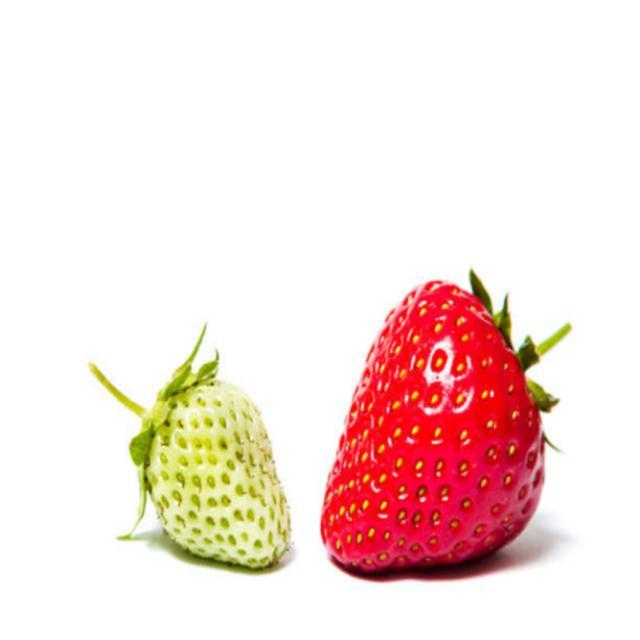strawberry: (320, 276, 546, 574), (145, 376, 292, 564)
